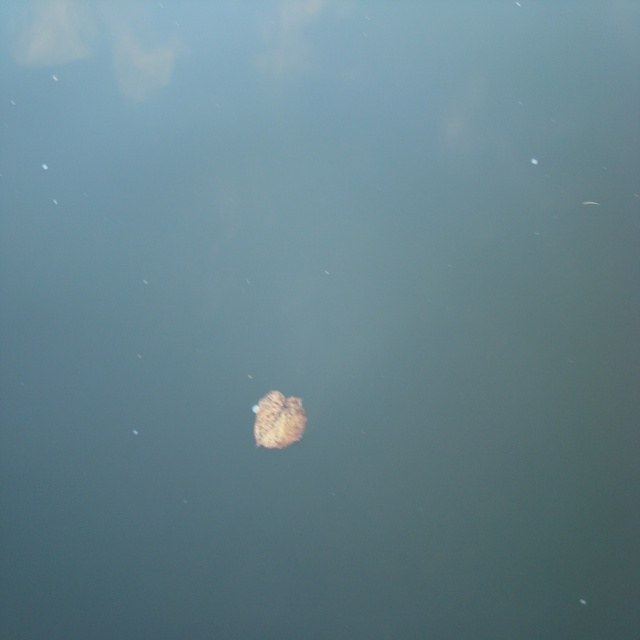Jellyfish: (254, 390, 314, 457)
